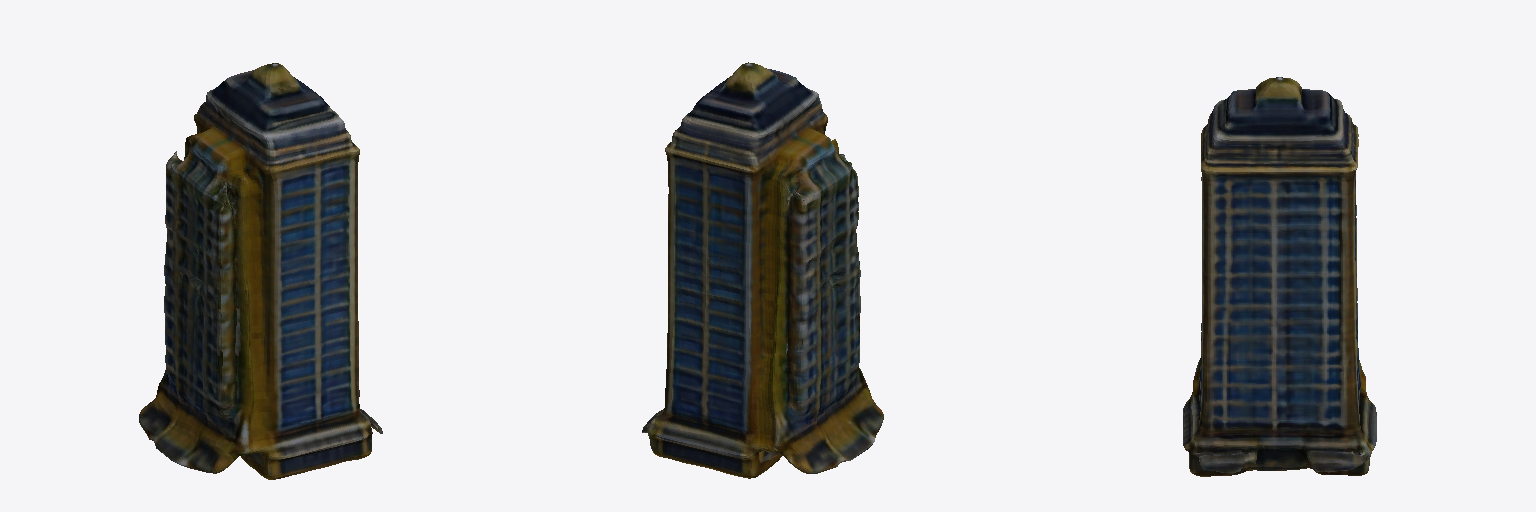
3 renders of one model, left to right at view 1: azimuth 30°, elevation 25°; view 2: azimuth 150°, elevation 25°; view 3: azimuth 270°, elevation 25°, orthographic.
Visible parts, largest first — view 1: mesh; view 2: mesh; view 3: mesh.
Boxes of the visible parts, <box> form: mesh: <box>139,63,382,479</box>; mesh: <box>642,62,883,478</box>; mesh: <box>1183,77,1376,476</box>.
Bounding box in the file's own units: 0.5129 × 0.9944 × 0.4686.
Materials: 1 (1 with a texture image).